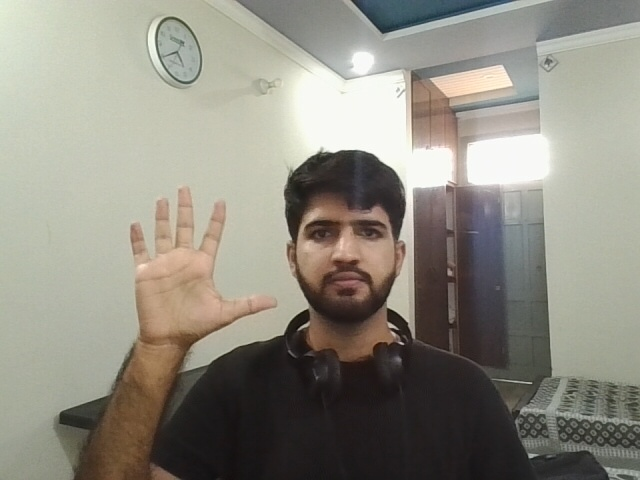Hello: (112, 179, 284, 351)
